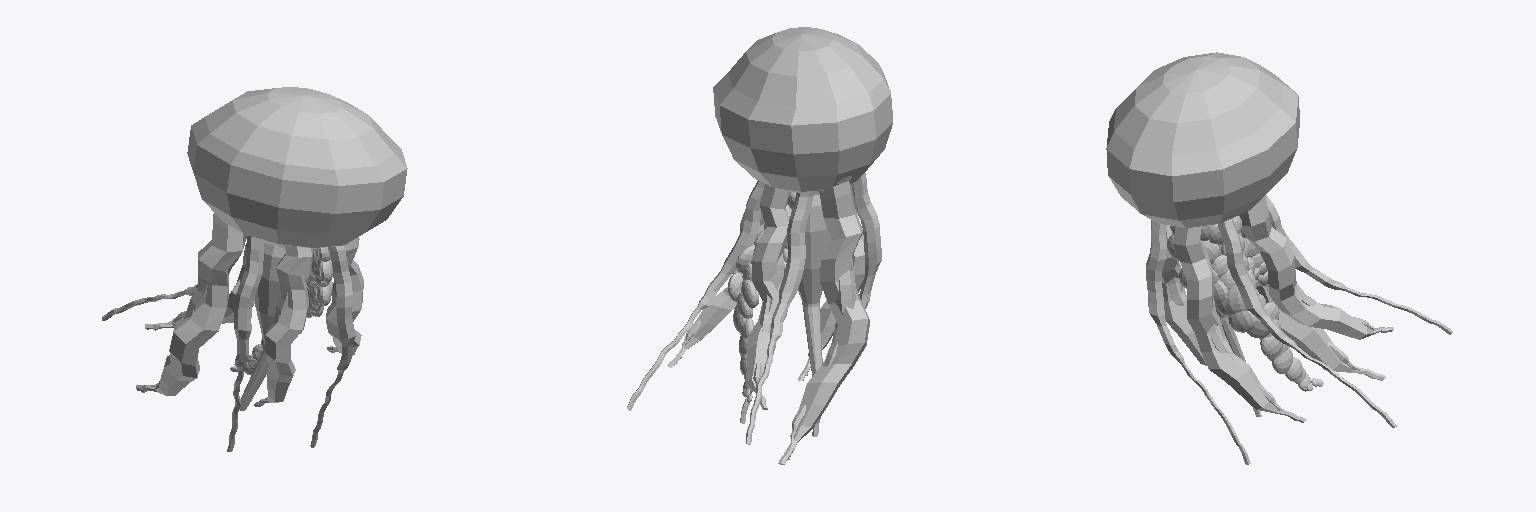
Rendered from jellyfish.obj.
3 renders of one model, left to right at view 1: azimuth 30°, elevation 25°; view 2: azimuth 150°, elevation 25°; view 3: azimuth 270°, elevation 25°, orthographic.
Bounding box in the file's own units: 0.5439 × 1.07 × 0.8926.